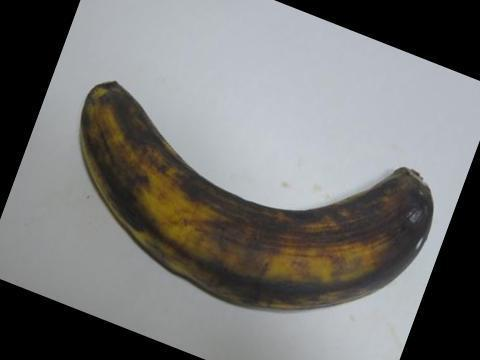overripe: (75, 63, 449, 336)
